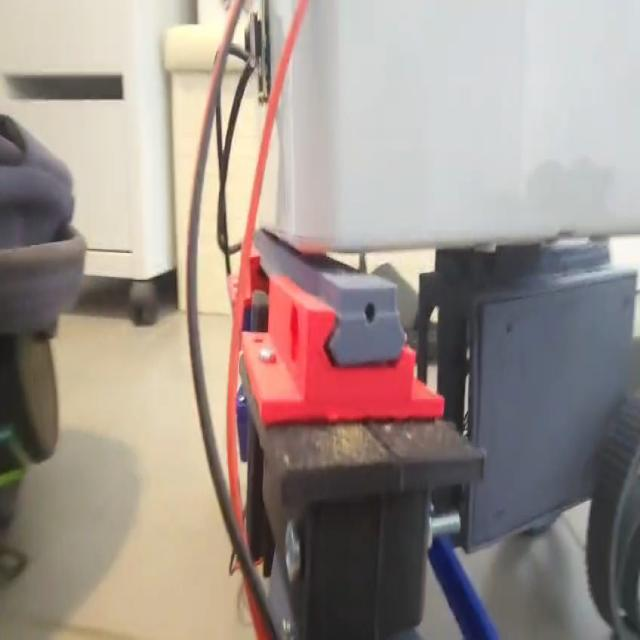Robot: (226, 0, 640, 640)
